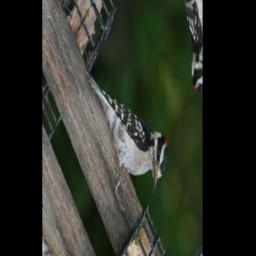Woodpecker: (75, 15, 173, 236)
